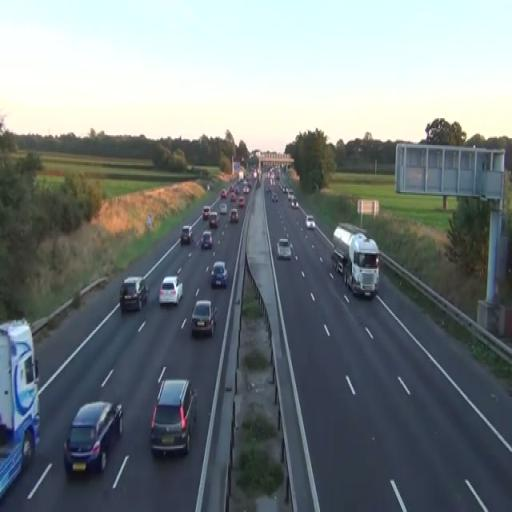Car: (64, 399, 124, 479), (149, 372, 199, 459), (190, 300, 218, 339), (120, 275, 148, 312), (158, 276, 184, 307), (211, 261, 228, 289), (277, 238, 292, 261), (200, 230, 214, 250), (229, 209, 239, 223)
Truck: (0, 316, 42, 500), (331, 222, 380, 299)
